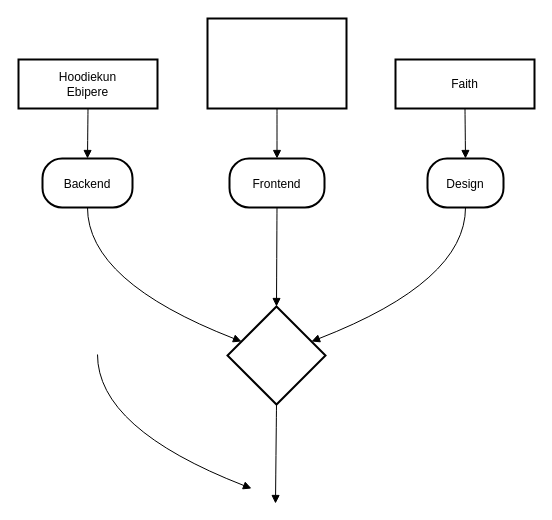
The diagram is 552 pixels wide and 520 high, and some of its shapes have lost their labels. Here are the shapes that lost their labels. From the top down, the centre of each, then its label:
pixel 276 63: Ohani Kizito Ken Travis
pixel 276 355: Budget
